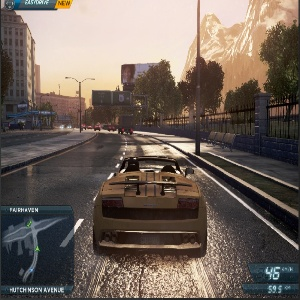ad: (120, 64, 165, 83)
building: (42, 79, 89, 127), (6, 96, 56, 130)
lamp post: (183, 1, 209, 157), (63, 70, 94, 133)
road sign: (91, 88, 133, 104)
tree: (263, 25, 300, 124), (176, 60, 225, 126), (139, 64, 181, 129), (231, 79, 265, 138)
vehicle: (118, 116, 137, 136)
